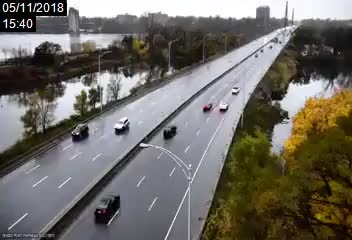personal_car: (94, 191, 121, 221), (72, 123, 88, 141), (114, 116, 129, 133), (164, 122, 177, 138), (200, 102, 213, 113), (219, 102, 229, 112), (230, 86, 241, 94)
